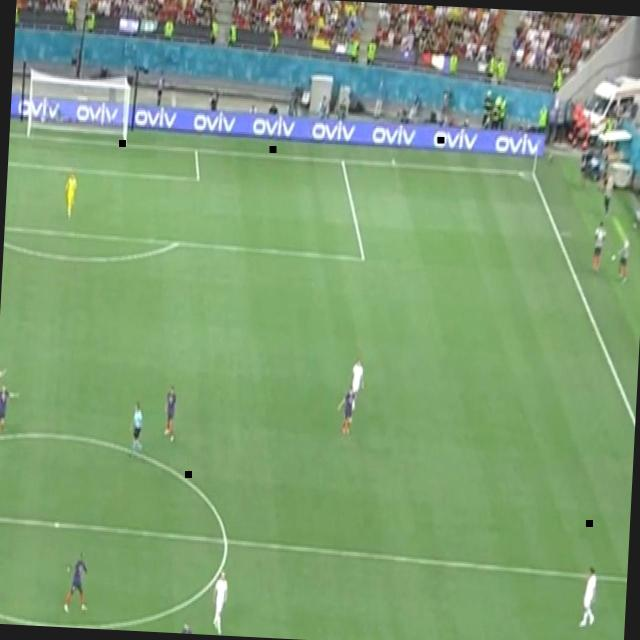ball: (609, 250, 617, 262)
player-white: (62, 549, 92, 617), (208, 568, 232, 636), (576, 559, 598, 630), (335, 387, 359, 437), (127, 398, 145, 460), (0, 381, 21, 433), (162, 384, 180, 442), (62, 167, 80, 222), (350, 356, 366, 401), (0, 360, 8, 414), (177, 618, 196, 634)
